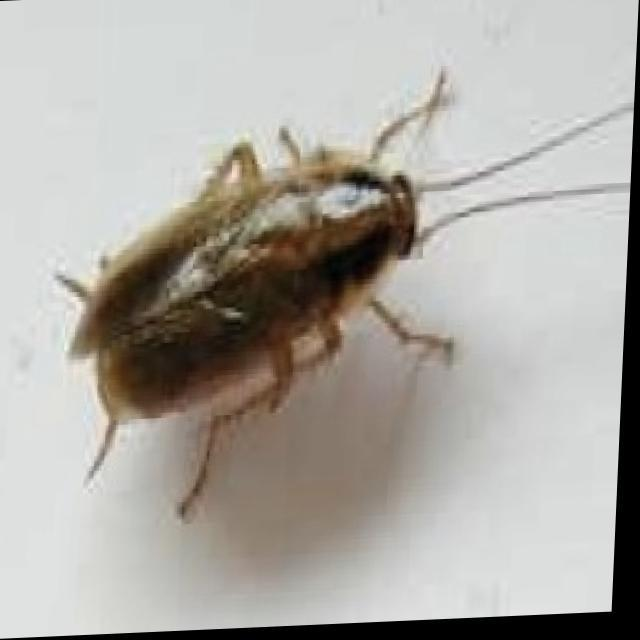cockroach: (71, 133, 480, 483)
